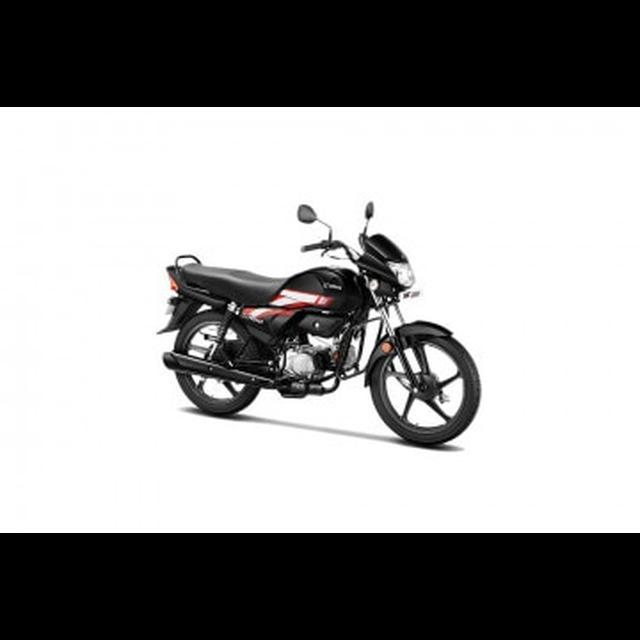motorcycle: (153, 189, 487, 453)
